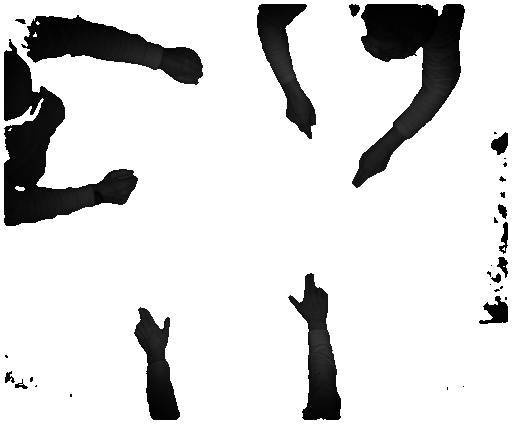fist: (165, 42, 207, 87), (104, 168, 143, 207)
hand: (288, 272, 335, 330), (128, 304, 175, 358), (352, 142, 392, 191), (280, 96, 319, 143)
